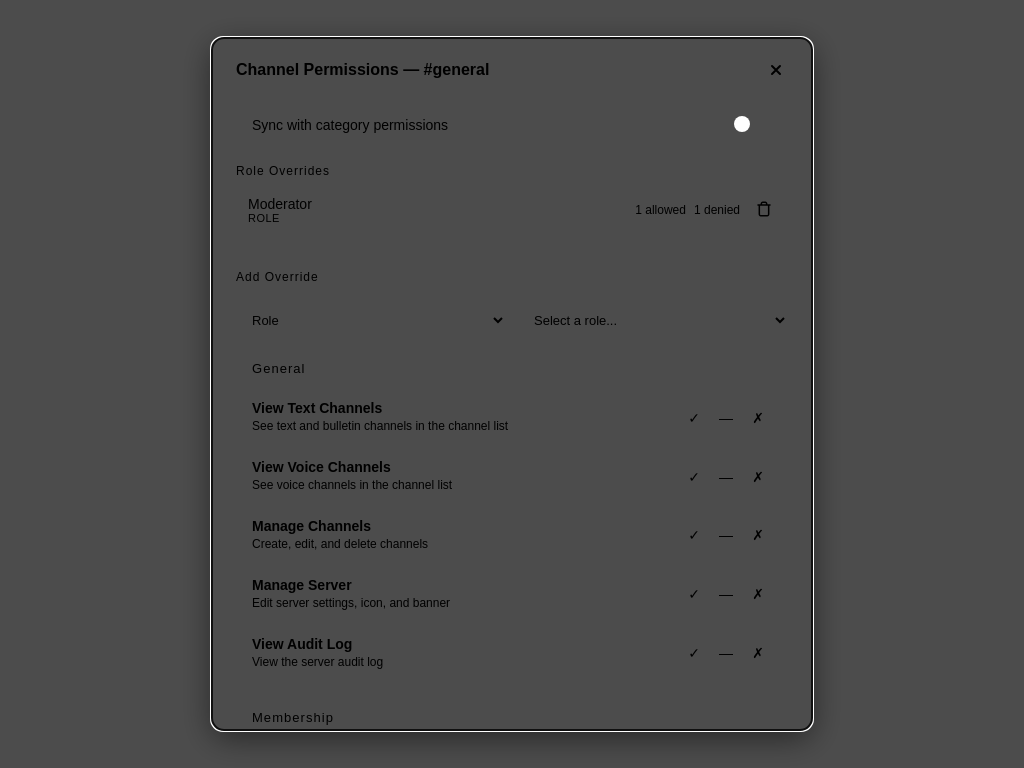
Scenario: ChannelSettingsModal — V6-V7 regression (#3406) › V7: a DELETE returning 500 leaves the row with the delete alert; a 200 removes it
Expected: the text with class "override-target-name" reads "Moderator", top-left (248, 196), bottom-right (312, 212)
Click the button with class "override-item-select": (280, 204) top-left (248, 196), bottom-right (740, 224)
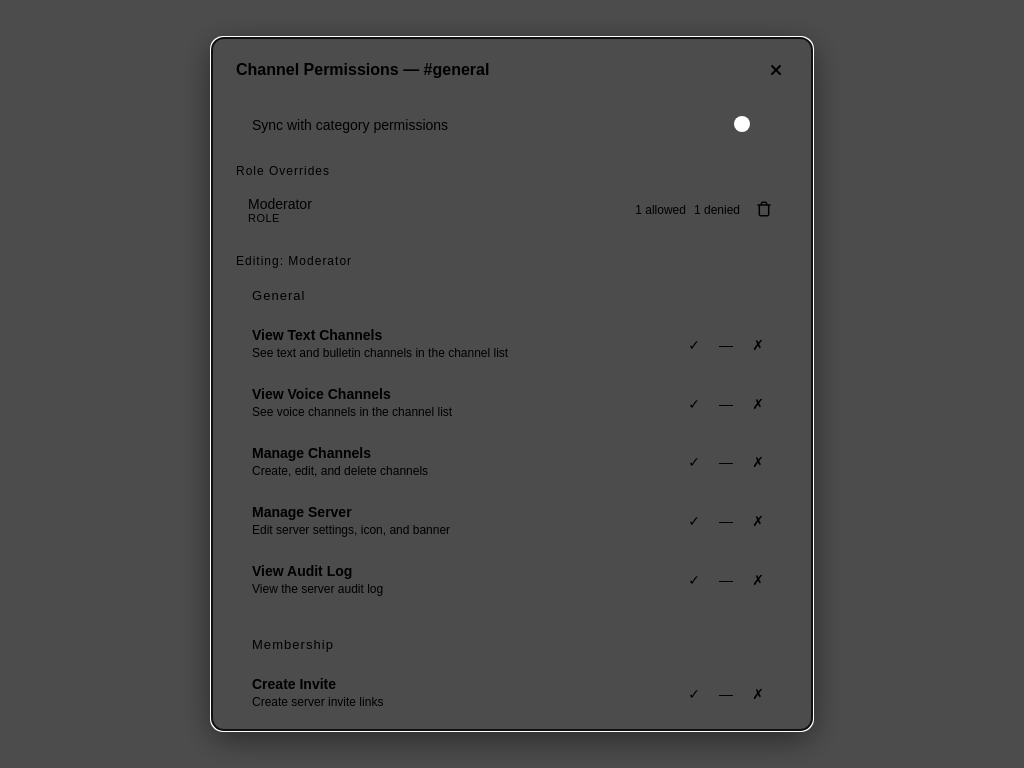
Click the button named "Delete override": (764, 210) top-left (752, 197), bottom-right (776, 224)
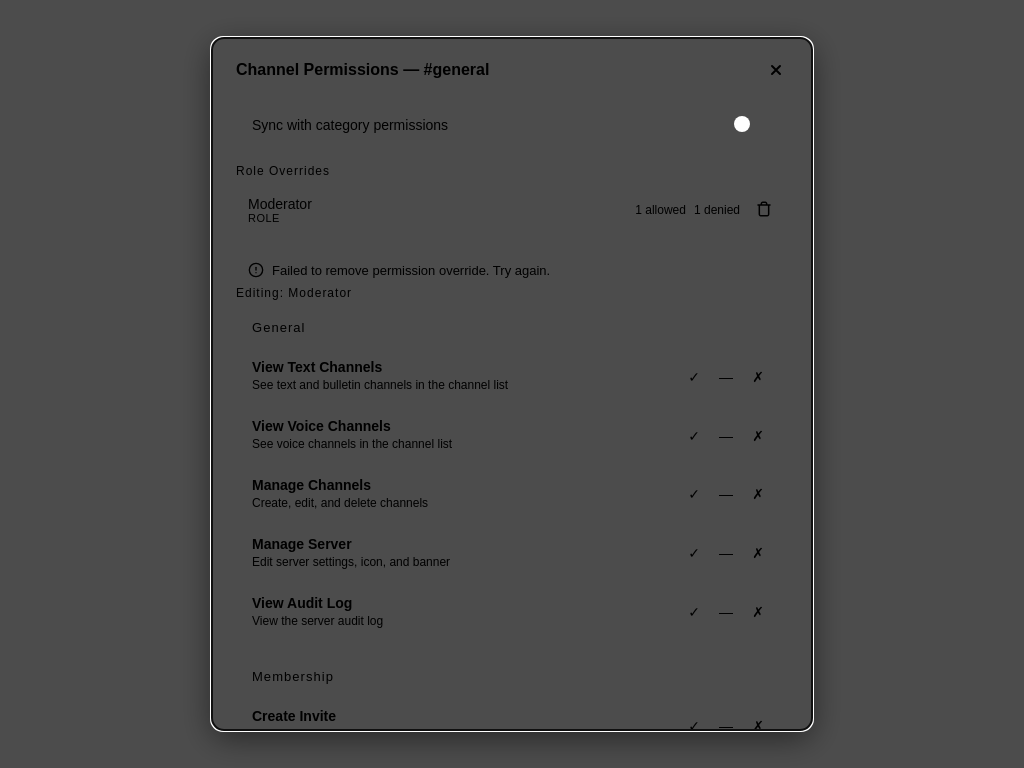
Expected: the text "Moderator" is shown, top-left (248, 196), bottom-right (312, 212)
Now the message reads "Failed to remove permission override. Try again.", box top-left (272, 263), bottom-right (550, 278)
Click the button named "Delete override": (764, 210) top-left (752, 197), bottom-right (776, 224)
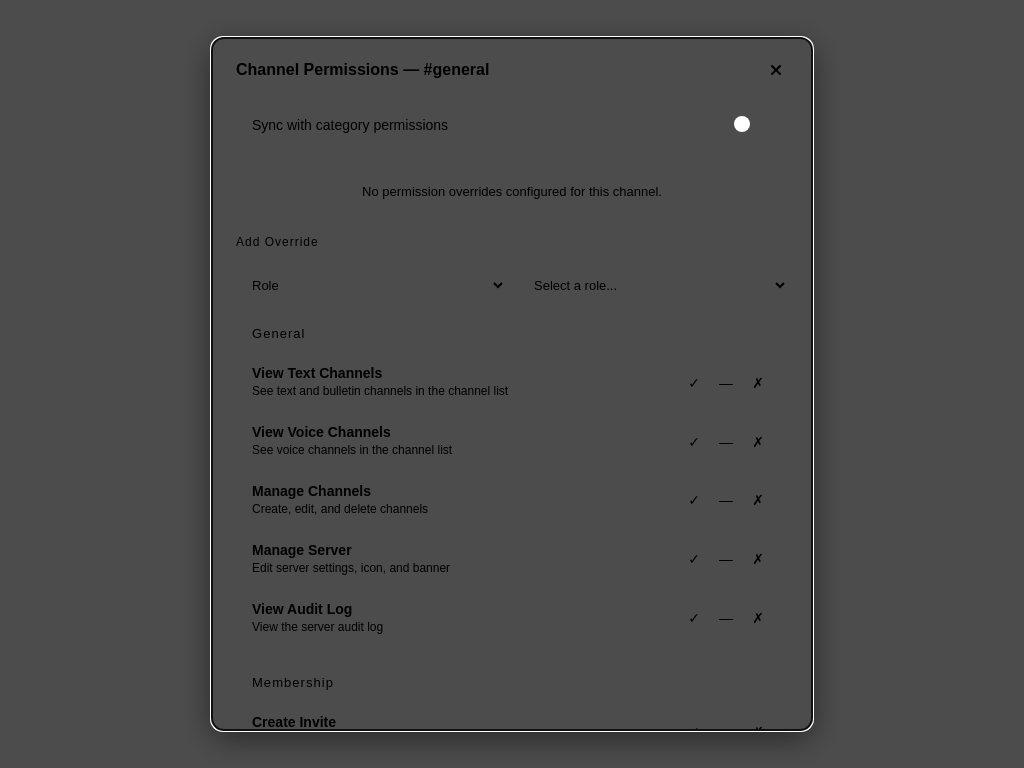
Now the text "No permission overrides configured for this channel." is shown, box top-left (362, 184), bottom-right (662, 199)
Now the button "Moderator" is gone
